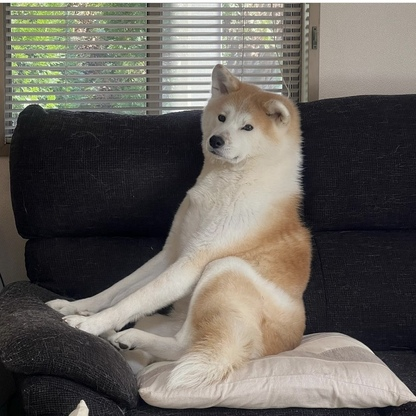akita: (41, 59, 323, 394)
